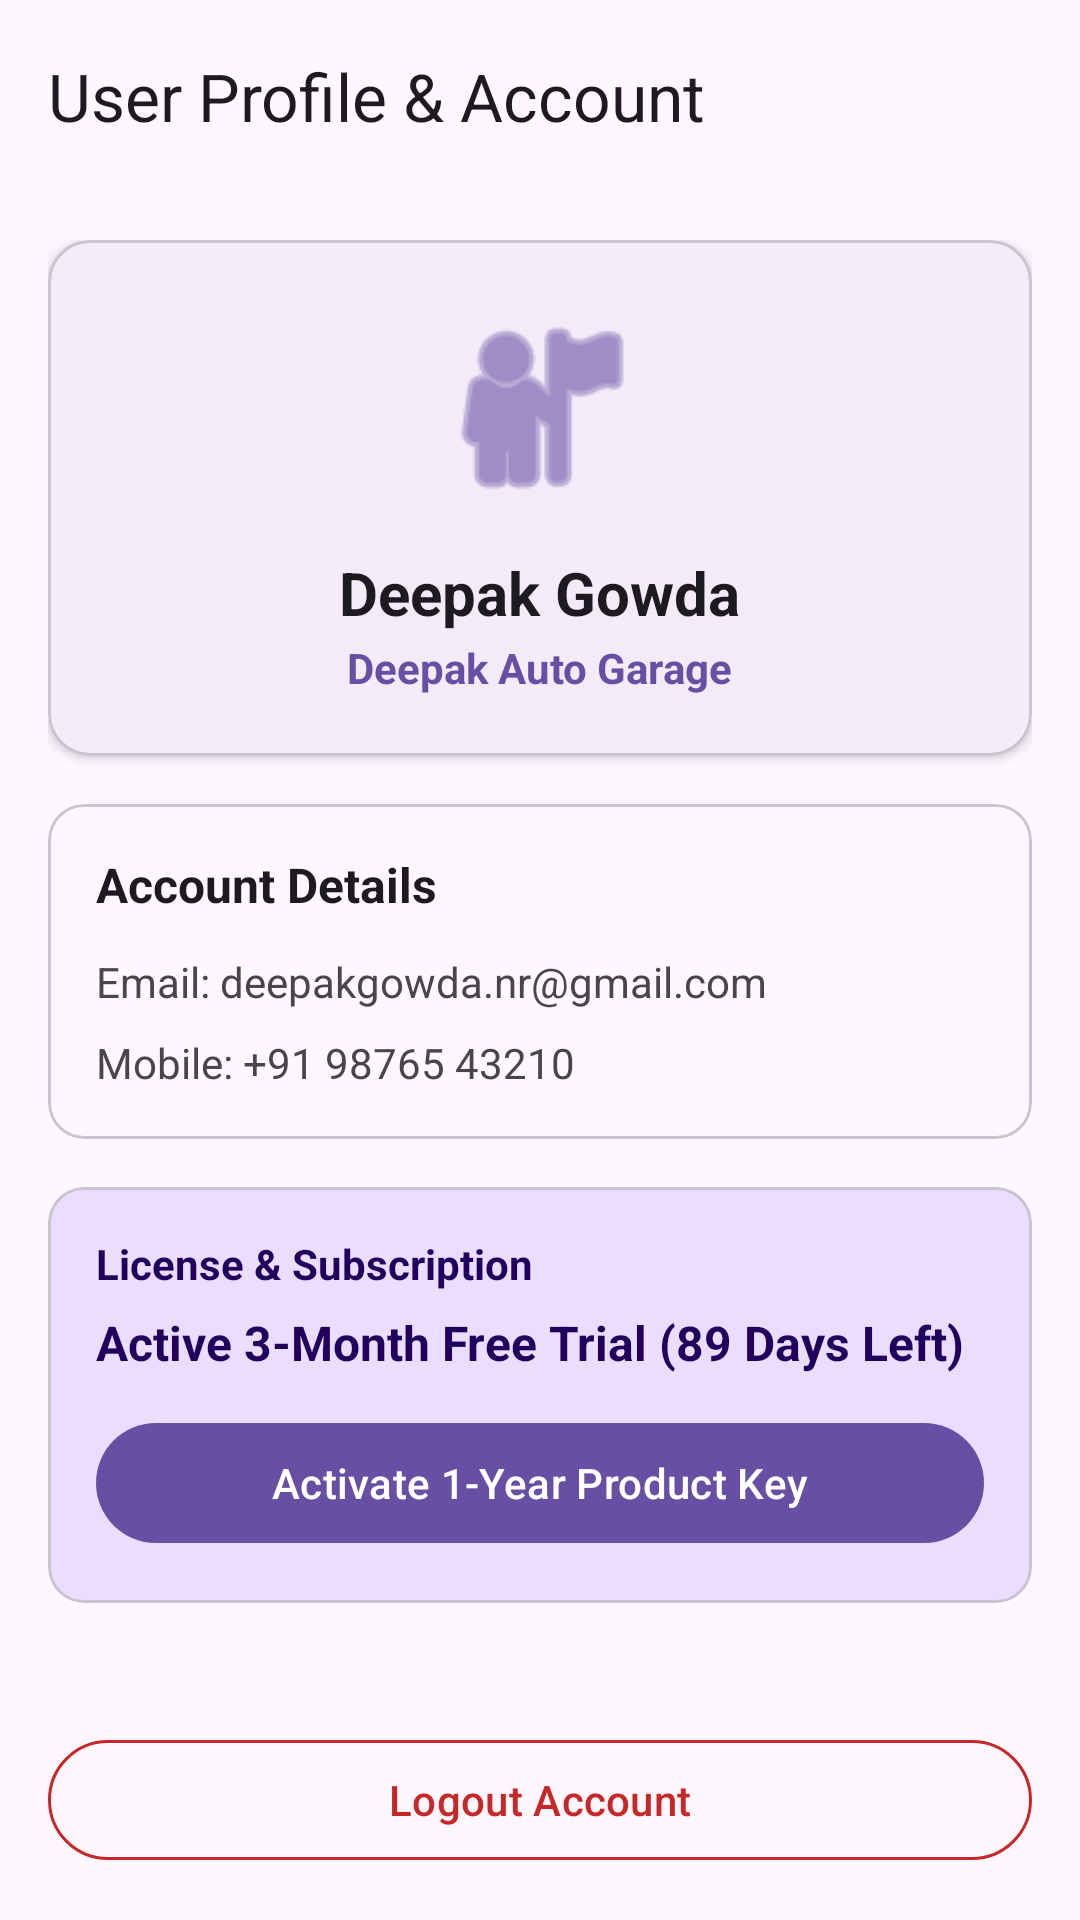

Icons on this 1080*1920 Android screen, each with the point to tap as (x=x, y=y):
Profile Avatar: (x=542, y=408)
